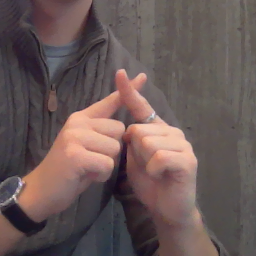X: (52, 67, 201, 203)
